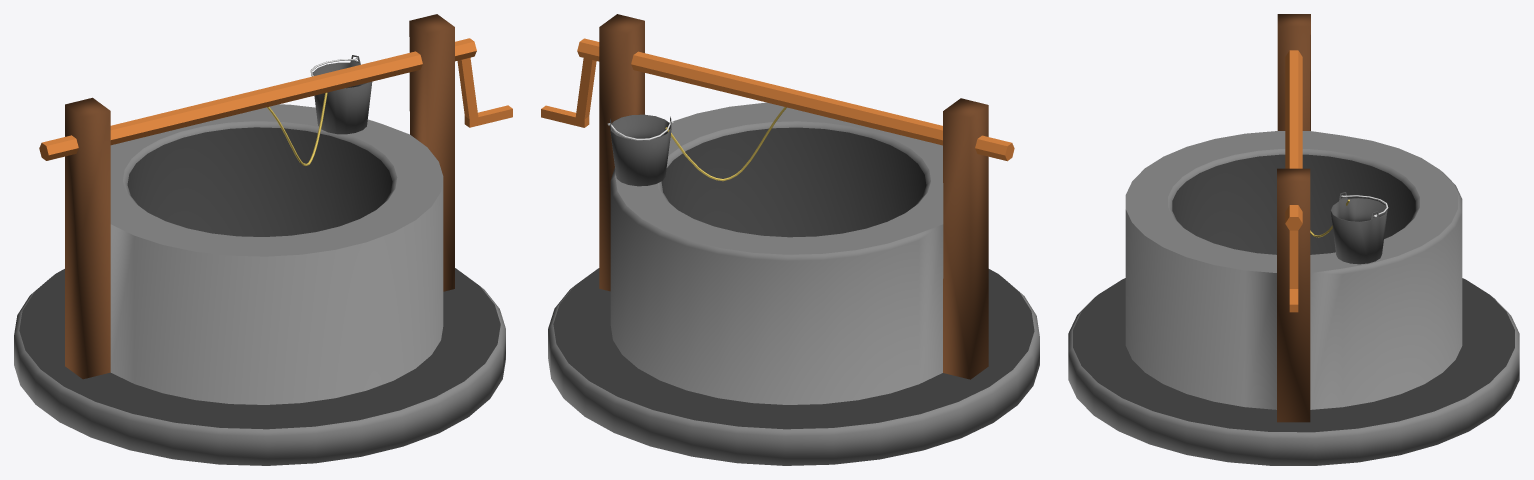
The model's file is cistern.fbx.
3 views of the same model, side by side, from view 1: azimuth 30°, elevation 25°; view 2: azimuth 150°, elevation 25°; view 3: azimuth 270°, elevation 25° (orthographic). The views are drawn at different scales.
Visible parts, largest first — view 1: Cstern, Cylinder, Cylinder.001; view 2: Cstern, Cylinder, Cylinder.001, Cylinder.003; view 3: Cstern, Cylinder, Cylinder.001.
Boxes of the visible parts, bbox=[...] form: Cstern: bbox=[14, 14, 505, 465]; Cylinder: bbox=[39, 38, 512, 160]; Cylinder.001: bbox=[312, 55, 372, 134]; Cstern: bbox=[548, 14, 1039, 465]; Cylinder: bbox=[541, 38, 1014, 161]; Cylinder.001: bbox=[609, 114, 671, 186]; Cylinder.003: bbox=[665, 107, 786, 181]; Cstern: bbox=[1068, 14, 1519, 465]; Cylinder: bbox=[1285, 50, 1302, 312]; Cylinder.001: bbox=[1330, 192, 1387, 264].
Size of the model in its own units: 565 by 343 by 514.
